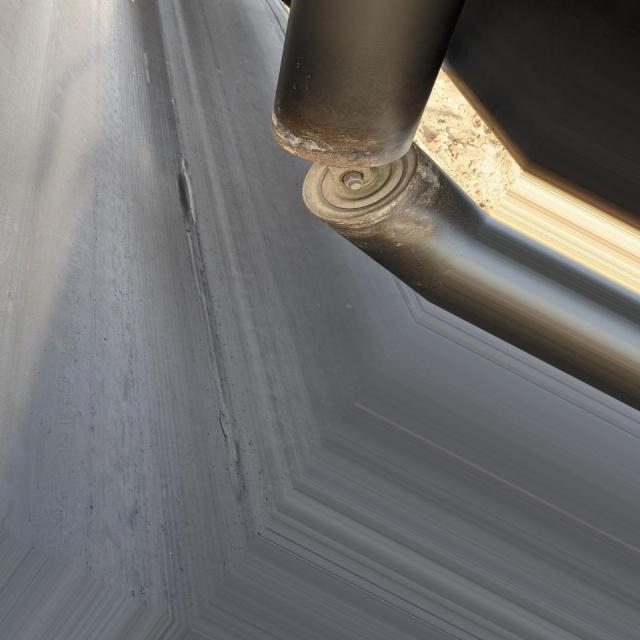Roller: (264, 0, 462, 168), (302, 137, 482, 260)
impact damage: (178, 165, 200, 223)
